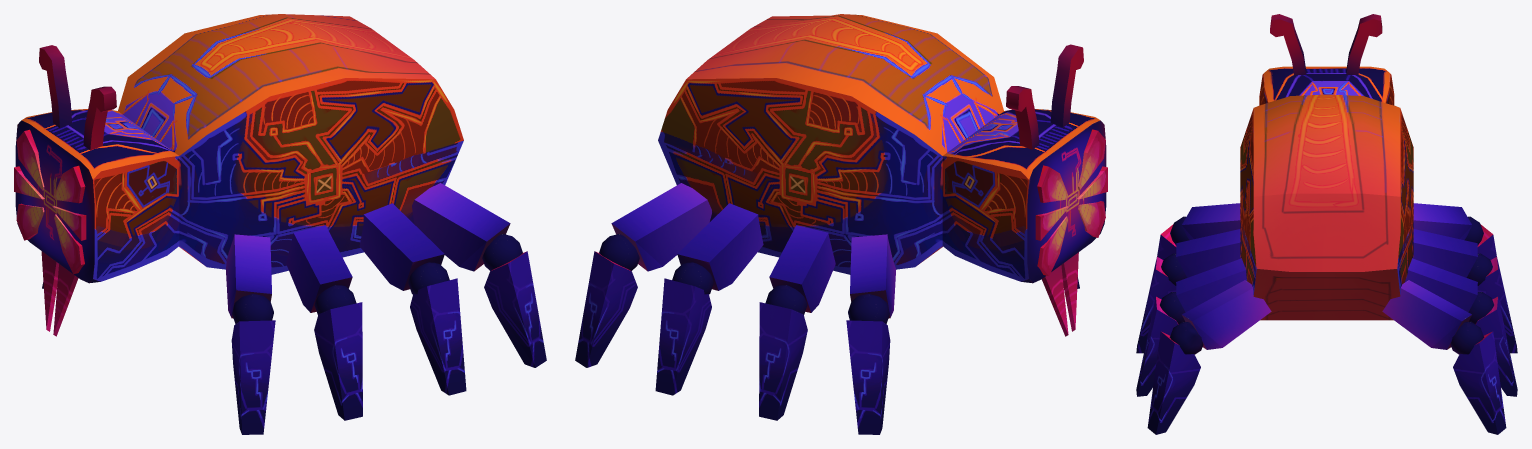
The model's file is spider.fbx.
3 renders of one model, left to right at view 1: azimuth 30°, elevation 25°; view 2: azimuth 150°, elevation 25°; view 3: azimuth 270°, elevation 25°, orthographic. The views are drawn at different scales.
Parts seen in each view (by area): view 1: body, forearms, arms, eyes, joints, teeth, voelspriet.002, voelspriet.001; view 2: body, forearms, arms, eyes, joints, teeth, voelspriet.001, voelspriet.002; view 3: body, arms, forearms, joints, voelspriet.001, voelspriet.002.
Part boxes in pixels (x1,y1,x2,y2): body: (15,14,463,283); forearms: (42,251,546,434); arms: (226,183,510,318); eyes: (14,129,86,274); joints: (232,234,522,323); teeth: (41,251,78,336); voelspriet.002: (39,45,72,127); voelspriet.001: (83,86,116,150); body: (658,14,1106,283); forearms: (575,251,1079,434); arms: (611,183,895,318); eyes: (1035,129,1107,275); joints: (599,234,889,323); teeth: (1042,252,1078,336); voelspriet.001: (1050,44,1083,127); voelspriet.002: (1006,86,1039,149); body: (1240,66,1413,320); arms: (1176,203,1477,349); forearms: (1136,224,1517,434); joints: (1160,216,1493,354); voelspriet.001: (1270,14,1306,74); voelspriet.002: (1346,14,1382,74).
Bounding box in the file's own units: 420 × 311 × 406.
